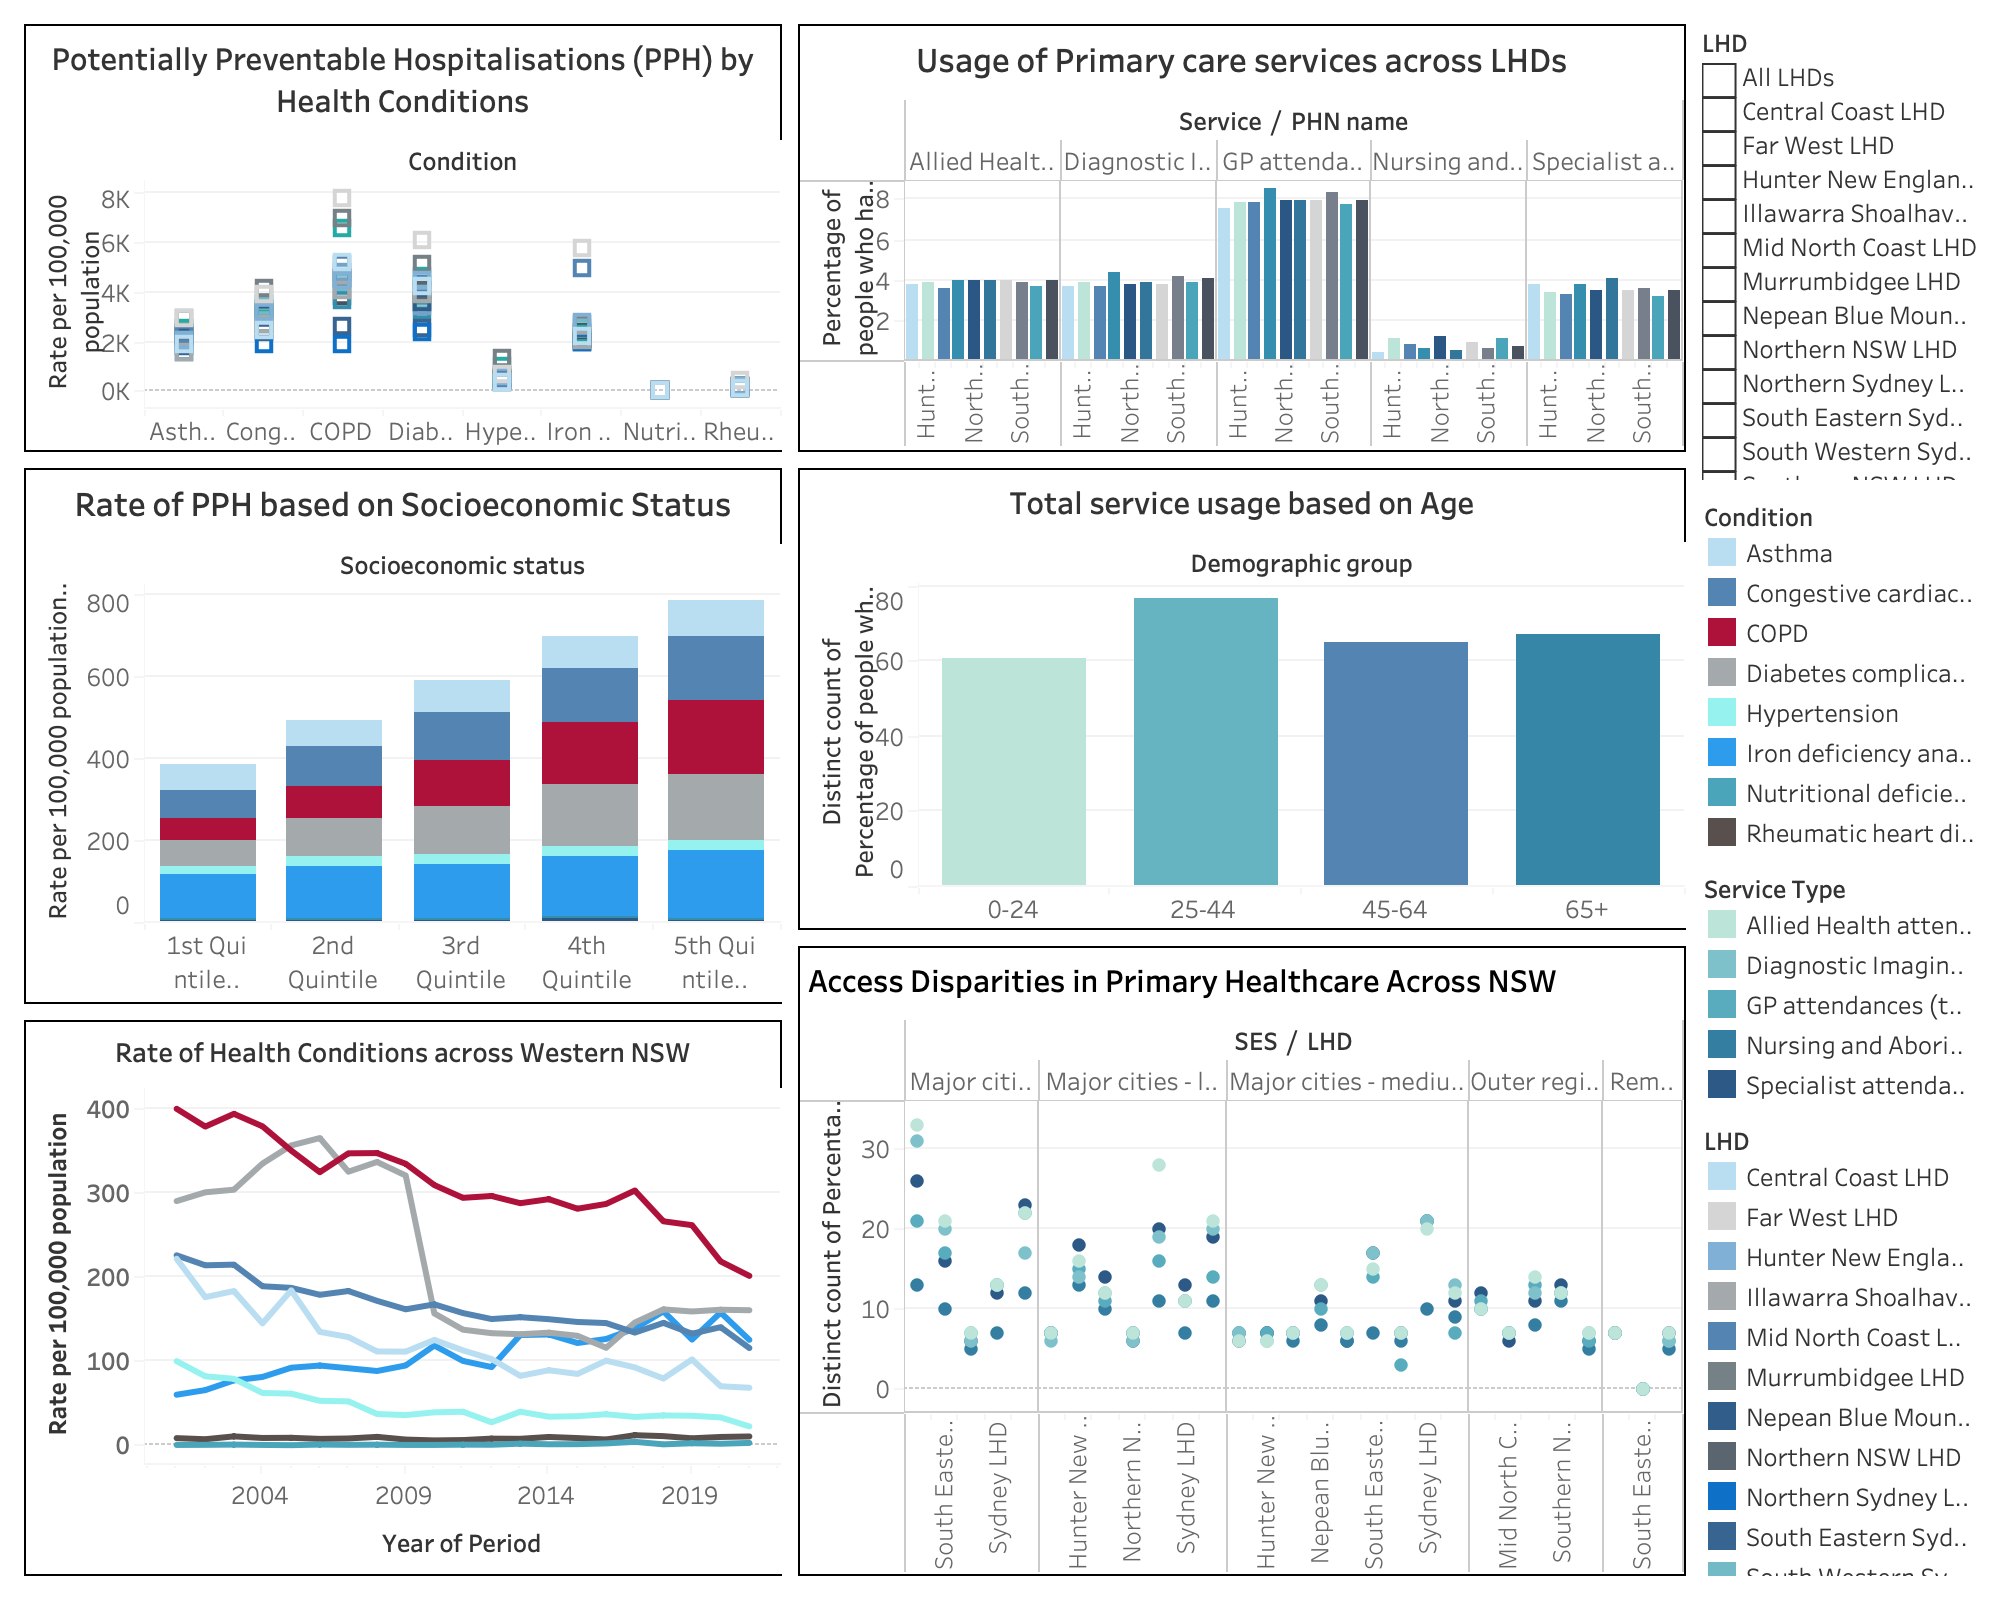

What the dashboard file says about the page in this screenshot:
{"tool":"tableau","page":{"name":"NSW Healthcare System","canvas":[1000,800],"ordinal":4},"visuals":[{"type":"worksheet","title":"PPH by health condition (2)","mark":"Shape","rows":["Rate per 100,000 population"],"cols":["Condition"],"box":[8,8,386.9,222]},{"type":"worksheet","title":"Primary care services (2)","mark":"Automatic","rows":["Percentage of people who had the service (%)"],"cols":["Service","PHN name"],"box":[394.9,8,452.1,222]},{"type":"filter","title":"Trends in health conditions (2)","param":"[federated.1pg8rkm0schznp1h1hrr10ivgukn (copy)].[none:LHD:nk]","box":[847,8,145,236]},{"type":"worksheet","title":"Rate of PPH by socioecomic (2)","mark":"Automatic","rows":["Rate per 100,000 population (second sheet)"],"cols":["Socioeconomic status"],"box":[8,230,386.9,276]},{"type":"worksheet","title":"Service usage by age (2)","mark":"Automatic","rows":["Percentage of people who had the service (%) (Fourth sheet)"],"cols":["Demographic group (Fourth sheet)"],"box":[394.9,230,452.1,239]},{"type":"legend","title":"Trends in health conditions (2)","param":"[federated.1pg8rkm0schznp1h1hrr10ivgukn (copy)].[none:Condition:nk]","box":[847,244,145,186]},{"type":"legend","title":"Disparities in Healthcare access (2)","param":"[federated.1pg8rkm0schznp1h1hrr10ivgukn (copy)].[none:Service (Fourth sheet):nk]","box":[847,430,145,126]},{"type":"worksheet","title":"Disparities in Healthcare access (2)","mark":"Circle","rows":["Percentage of people who had the service (%) (Fourth sheet)"],"cols":["SA3 group","LHD (Fourth sheet)"],"box":[394.9,469,452.1,323]},{"type":"worksheet","title":"Trends in health conditions (2)","mark":"Automatic","rows":["Rate per 100,000 population"],"cols":["Period"],"box":[8,506,386.9,286]},{"type":"legend","title":"PPH by health condition (2)","param":"[federated.1pg8rkm0schznp1h1hrr10ivgukn (copy)].[none:LHD:nk]","box":[847,556,145,236]}]}

Visuals, with their boxes in screenshot pixels (x1, y1, x2, y2), scaled from the page's 1000x800 canvas onto the 2000x1600 screenshot:
"PPH by health condition (2)" worksheet (Shape marks): detection(16, 16, 790, 460)
"Primary care services (2)" worksheet: detection(790, 16, 1694, 460)
"Trends in health conditions (2)" filter: detection(1694, 16, 1984, 488)
"Rate of PPH by socioecomic (2)" worksheet: detection(16, 460, 790, 1012)
"Service usage by age (2)" worksheet: detection(790, 460, 1694, 938)
"Trends in health conditions (2)" legend: detection(1694, 488, 1984, 860)
"Disparities in Healthcare access (2)" legend: detection(1694, 860, 1984, 1112)
"Disparities in Healthcare access (2)" worksheet (Circle marks): detection(790, 938, 1694, 1584)
"Trends in health conditions (2)" worksheet: detection(16, 1012, 790, 1584)
"PPH by health condition (2)" legend: detection(1694, 1112, 1984, 1584)
